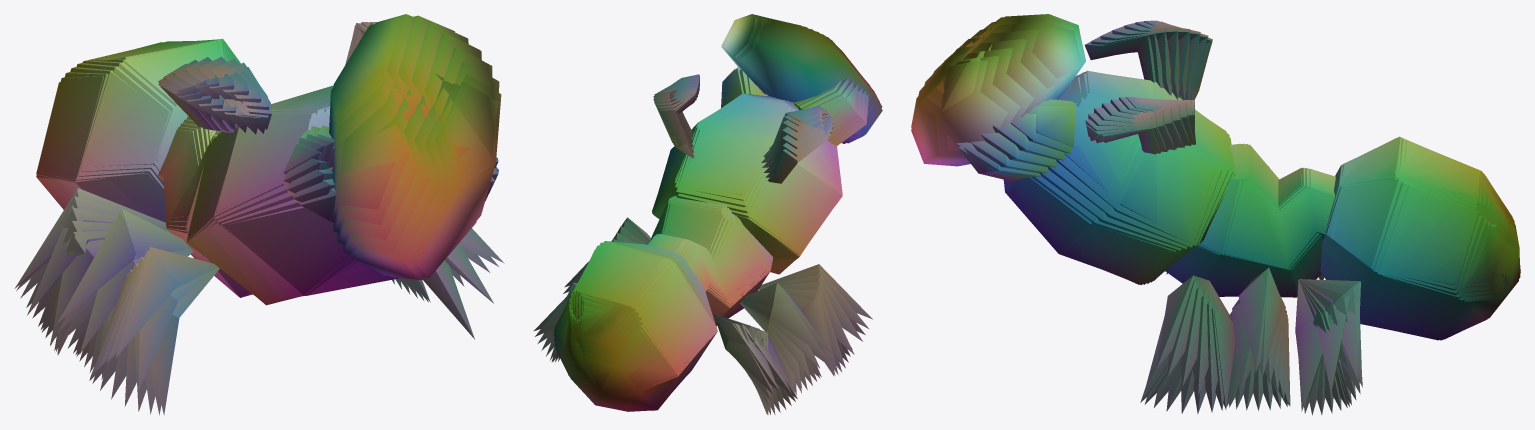
The model's file is Run_Food_meshes.fbx.
3 views of the same model, side by side, from view 1: azimuth 30°, elevation 25°; view 2: azimuth 150°, elevation 25°; view 3: azimuth 270°, elevation 25° (orthographic). The views are drawn at different scales.
Parts seen in each view (by area): view 1: Run_Food_009, Run_Food_006, Run_Food_004, Run_Food_007, Run_Food_008, Run_Food_005, Run_Food_010, Run_Food_011, Run_Food_002, Run_Food_001, Run_Food_003, Run_Food_012 (+4 smaller); view 2: Run_Food_009, Run_Food_011, Run_Food_010, Run_Food_008, Run_Food_012, Run_Food_007, Run_Food_006, Run_Food_013, Run_Food_005, Run_Food_004, Run_Food_014, Run_Food_001 (+4 smaller); view 3: Run_Food_000, Run_Food_001, Run_Food_013, Run_Food_003, Run_Food_014, Run_Food_015, Run_Food_002, Run_Food_012, Run_Food_011, Run_Food_004, Run_Food_005, Run_Food_006 (+4 smaller).
Part boxes in pixels (x1,y1,x2,y2): Run_Food_009: [16, 17, 411, 367]; Run_Food_006: [32, 42, 504, 379]; Run_Food_004: [40, 39, 489, 380]; Run_Food_007: [26, 29, 493, 373]; Run_Food_008: [20, 25, 474, 372]; Run_Food_005: [38, 40, 498, 380]; Run_Food_010: [14, 14, 416, 361]; Run_Food_011: [27, 15, 454, 390]; Run_Food_002: [45, 48, 464, 390]; Run_Food_001: [50, 82, 497, 399]; Run_Food_003: [42, 38, 453, 383]; Run_Food_012: [50, 22, 468, 415]; Run_Food_009: [570, 18, 868, 395]; Run_Food_011: [571, 15, 865, 410]; Run_Food_010: [571, 16, 872, 395]; Run_Food_008: [569, 31, 862, 400]; Run_Food_012: [572, 14, 852, 411]; Run_Food_007: [567, 34, 876, 406]; Run_Food_006: [533, 36, 879, 410]; Run_Food_013: [558, 47, 848, 401]; Run_Food_005: [535, 40, 882, 413]; Run_Food_004: [537, 75, 882, 414]; Run_Food_014: [555, 92, 850, 405]; Run_Food_001: [550, 79, 841, 414]; Run_Food_000: [913, 35, 1511, 409]; Run_Food_001: [911, 45, 1509, 408]; Run_Food_013: [971, 26, 1518, 414]; Run_Food_003: [918, 51, 1506, 410]; Run_Food_014: [936, 28, 1516, 412]; Run_Food_015: [927, 29, 1514, 410]; Run_Food_002: [911, 50, 1507, 409]; Run_Food_012: [962, 23, 1519, 414]; Run_Food_011: [965, 20, 1520, 415]; Run_Food_004: [924, 43, 1506, 410]; Run_Food_005: [933, 37, 1507, 409]; Run_Food_006: [944, 28, 1509, 408].
Size of the model in its own units: 207 by 205 by 327.
